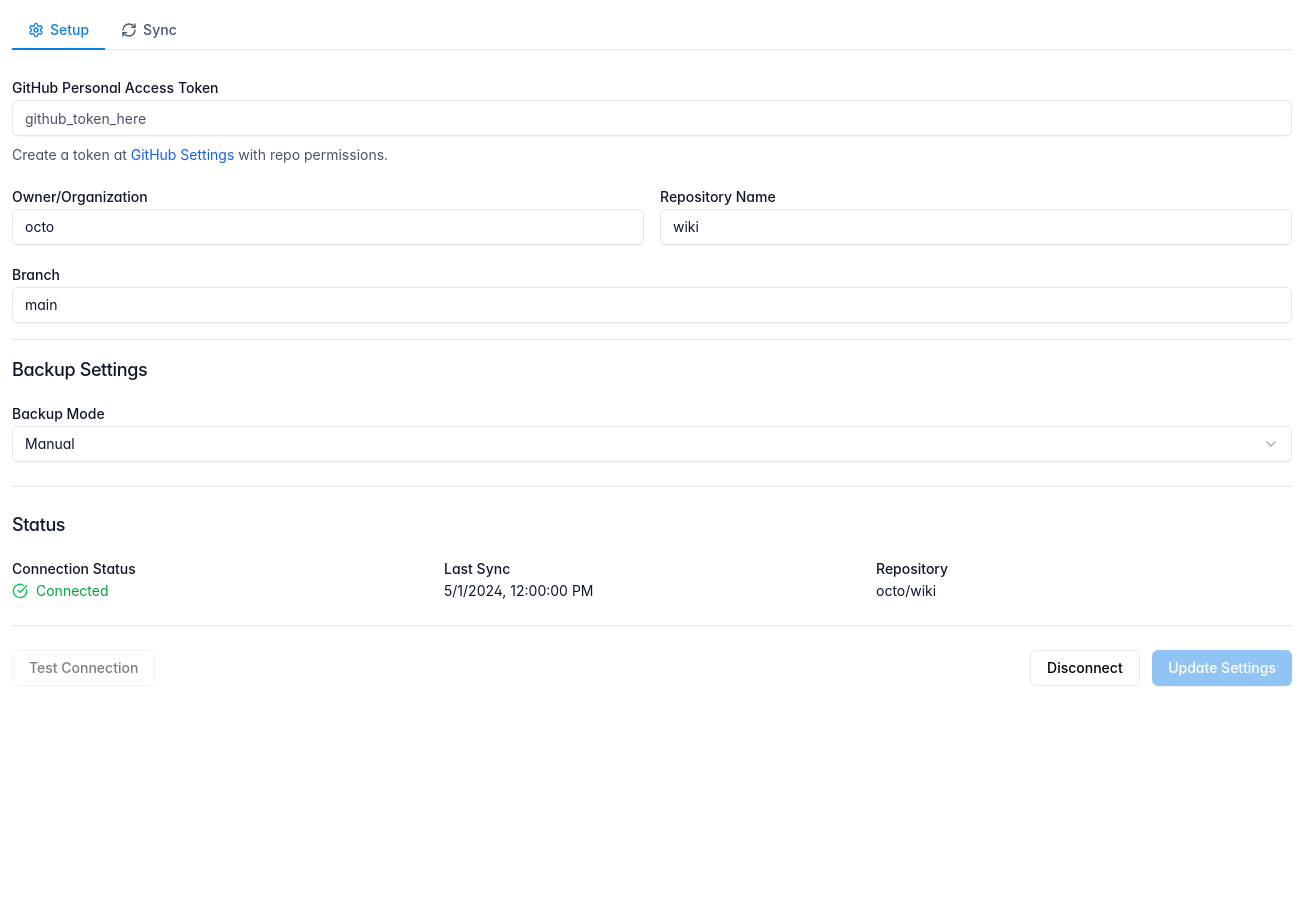
GitHubSettingsSection › when not connected › explains that sync needs a connection when it drops on the Sync tab
The image size is (1304, 912).
What coordinates should you click on to do the following:
click the tab with test id "github-sync-tab"
I would click on:
 (149, 31)
Its box is [105,12,193,50].
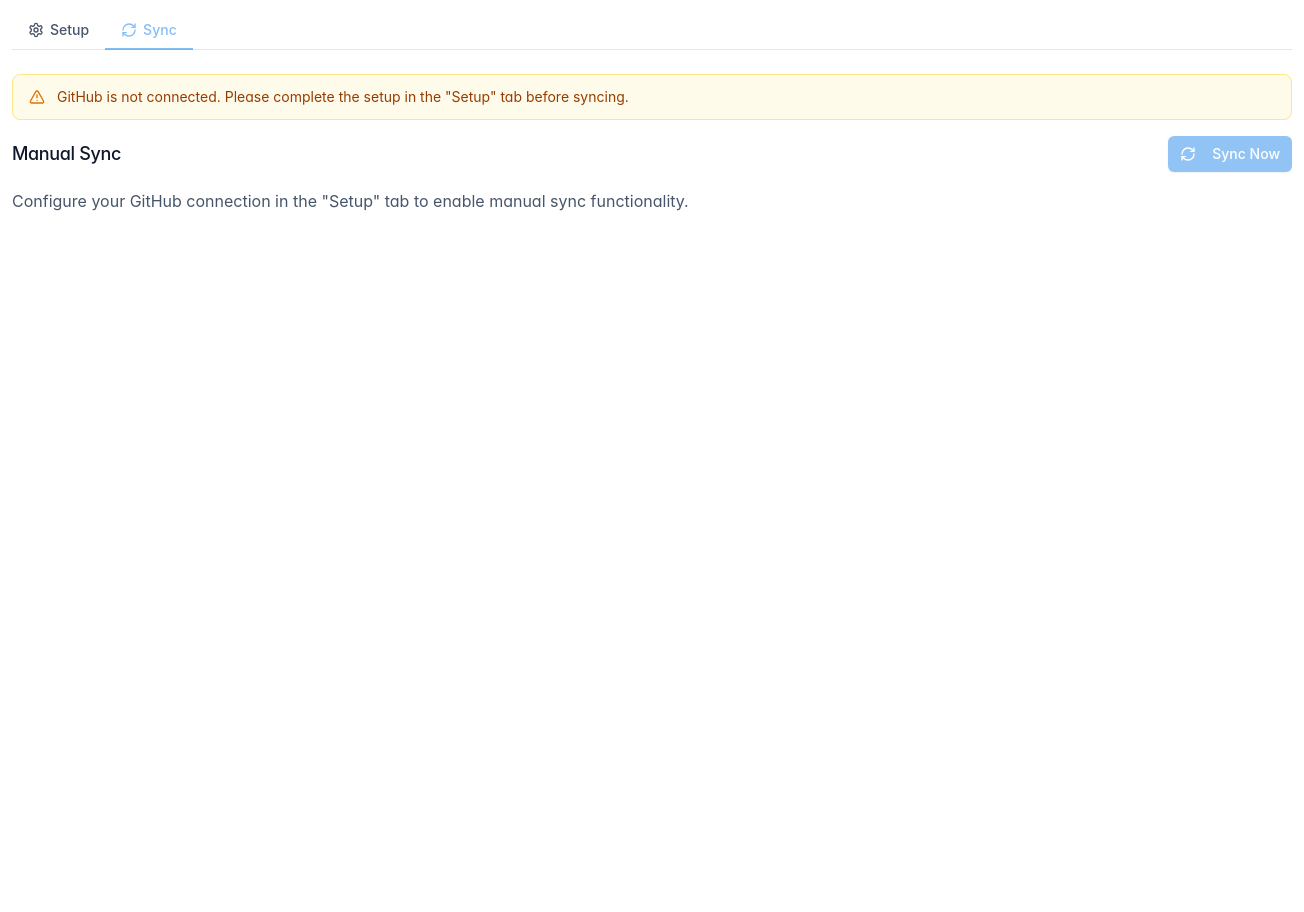
Check: the text "GitHub is not connected" is shown, box [57,88,629,105]
Check: the button with test id "github-sync-now-button" is disabled, box [1168,136,1292,172]
Check: the tab with test id "github-sync-tab" is disabled, box [105,12,193,50]
